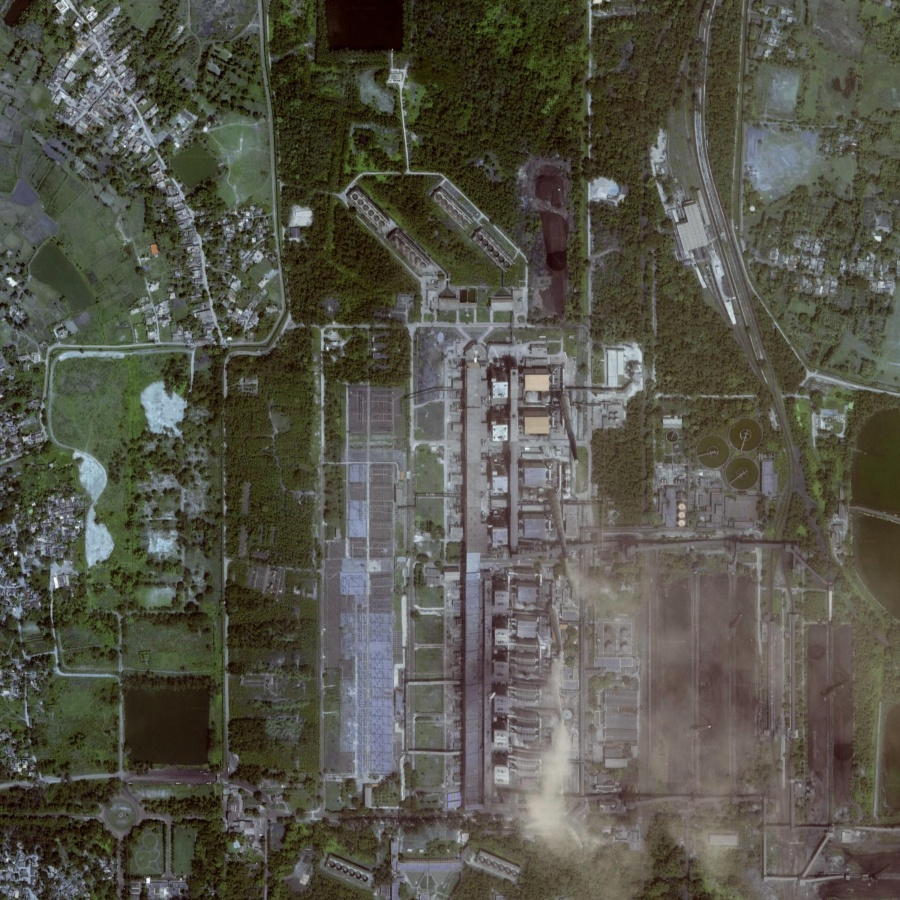PowerPlant: (535, 543, 866, 864)
